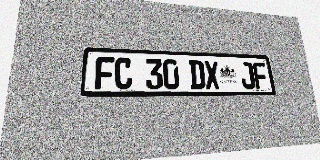0: (162, 59, 179, 89)
3: (146, 58, 163, 89)
C: (114, 57, 132, 90)
D: (189, 60, 206, 89)
F: (95, 57, 114, 90), (252, 62, 268, 89)
J: (239, 62, 256, 89)
X: (204, 60, 220, 89)
